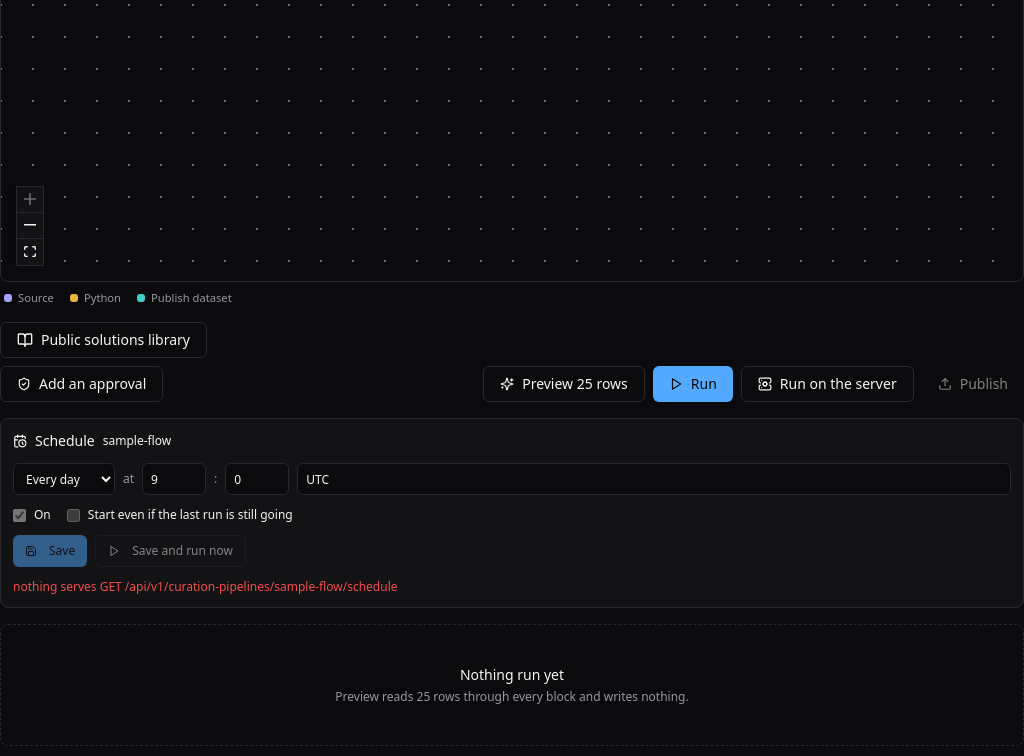
Test: publishes a preview only on explicit sample action, with exact notebook provenance
(page scrolled)
Click the button "Preview 25 rows". click: (564, 384)
box: [483,366,645,402]
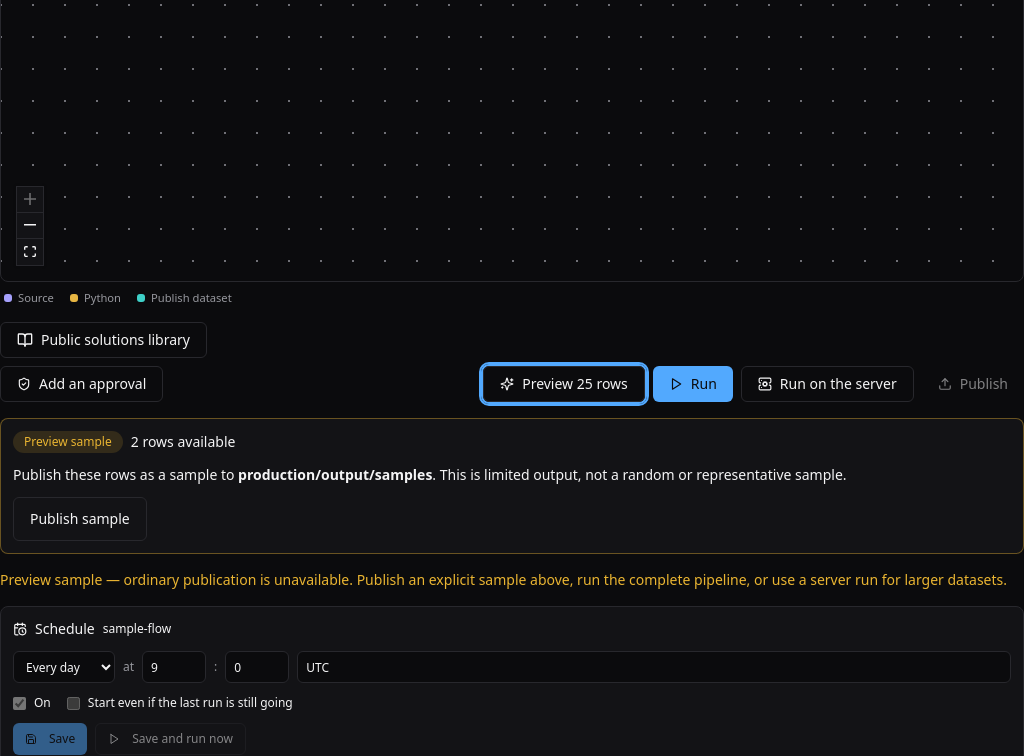
Expected: the button "Publish" is disabled, [922,366,1023,402]
Now the button "Publish sample" is shown
Click the button "Publish sample". click: (80, 519)
box: [13,497,147,541]
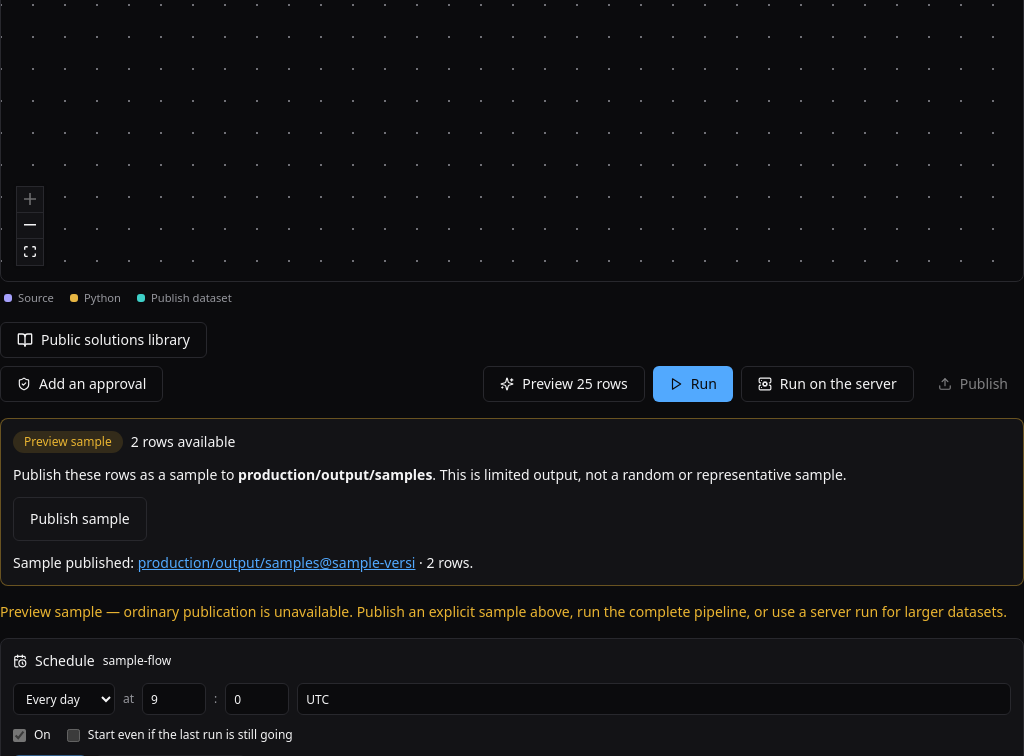
Now the text "Sample published: production/output/samples@sample-versi · 2 rows." is shown, box [13,553,473,572]
